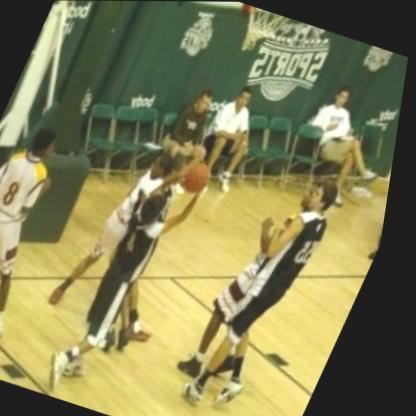basketball: (178, 157, 223, 197)
